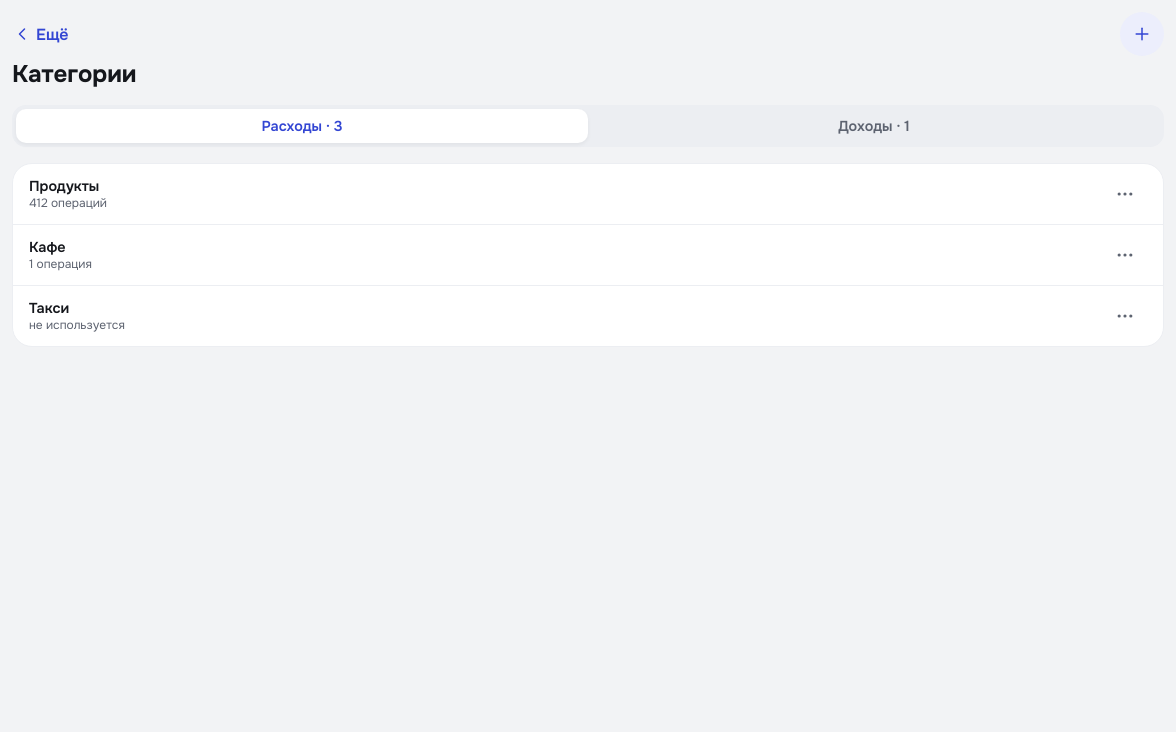
CategoriesScreen › menu › closes on outside click
Click the button named "Действия: Продукты".
click(1125, 194)  # box [1103, 172, 1147, 216]
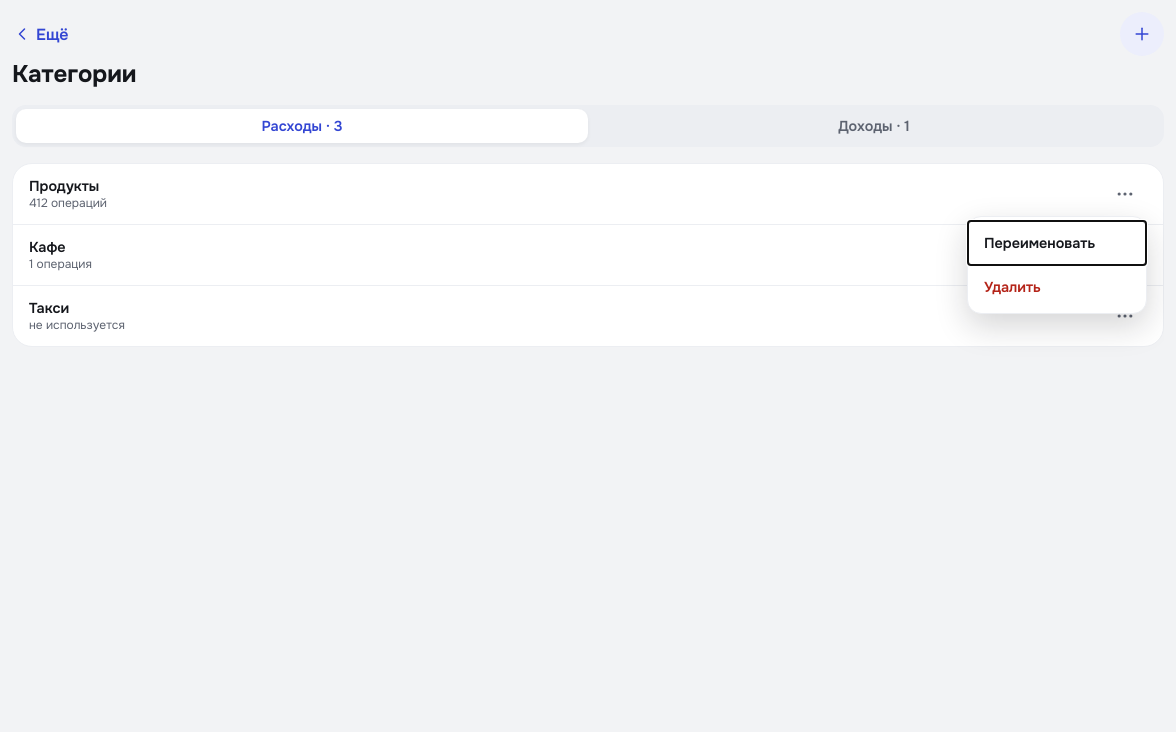
Expected: the menu is shown, [967, 216, 1147, 314]
Click the element that starts with "Ещё".
click(588, 372)  # box [12, 12, 1164, 731]
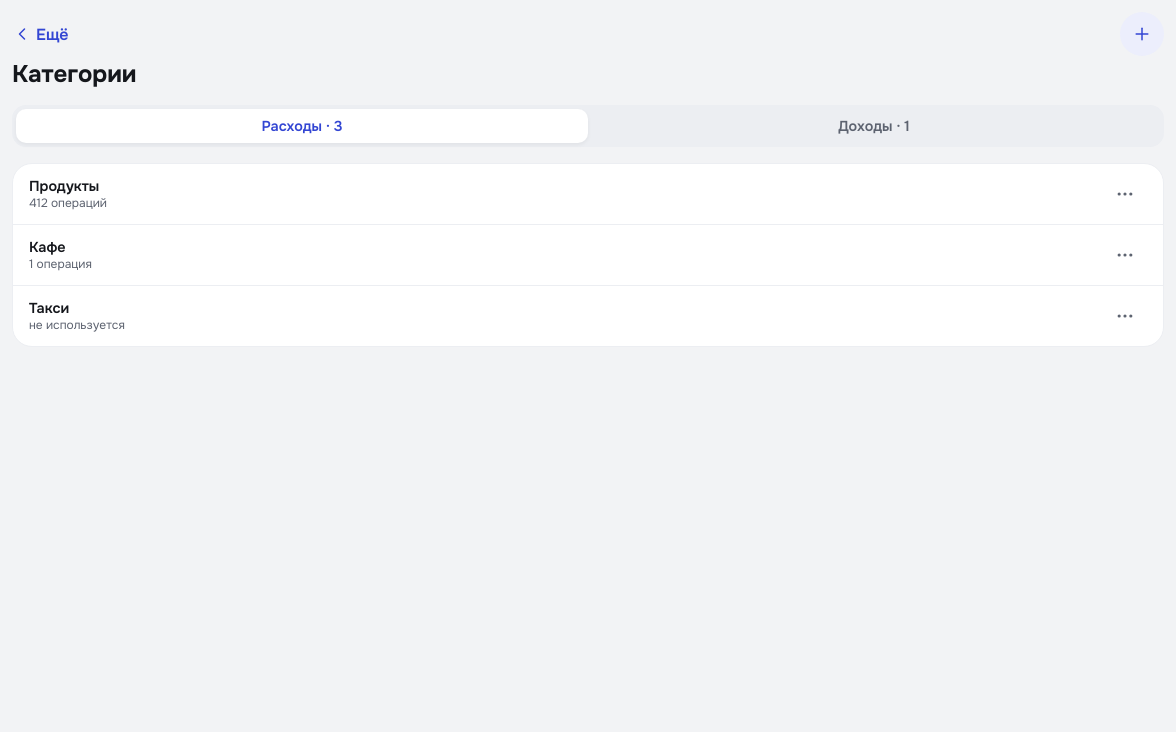
Expected: the menu is gone
